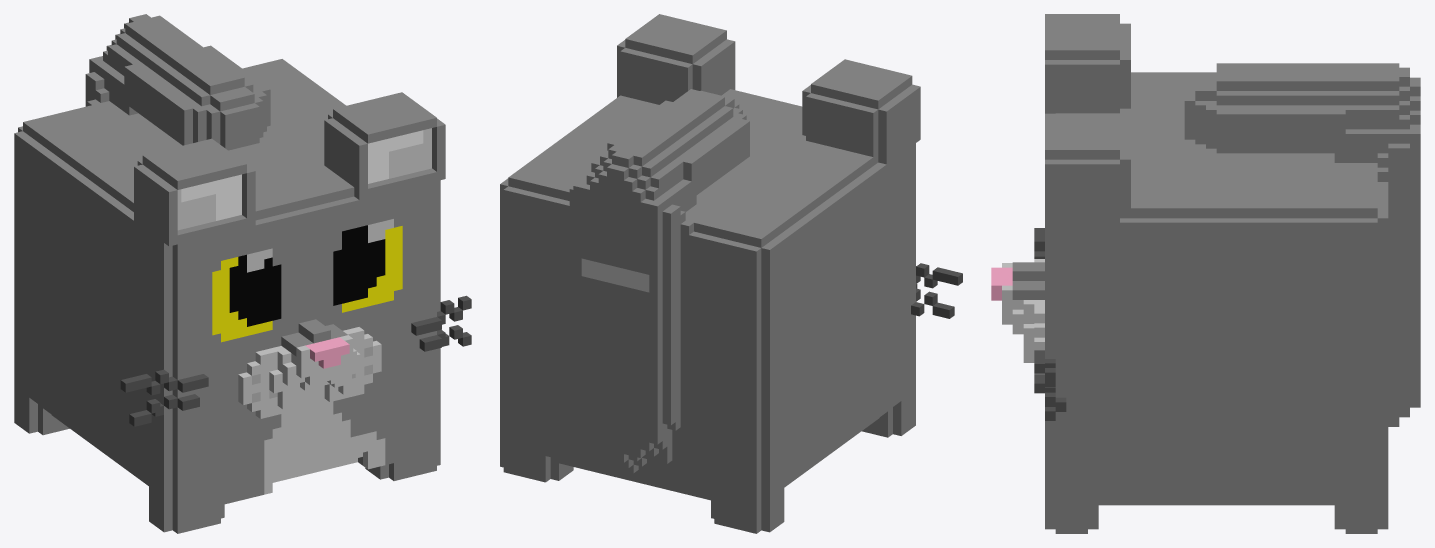
Rendered from cat.glb.
The picture shows the model from 3 angles, left to right: view 1: azimuth 30°, elevation 25°; view 2: azimuth 150°, elevation 25°; view 3: azimuth 270°, elevation 25°; orthographic projection. The views are drawn at different scales.
Visible parts, largest first — view 1: Object_2; view 2: Object_2; view 3: Object_2.
Part boxes in pixels (<box>): Object_2: <box>14,14,471,533</box>; Object_2: <box>500,14,962,533</box>; Object_2: <box>991,14,1420,533</box>.
Bounding box in the file's own units: 4 × 4 × 4.
1 material, 1 textured.
